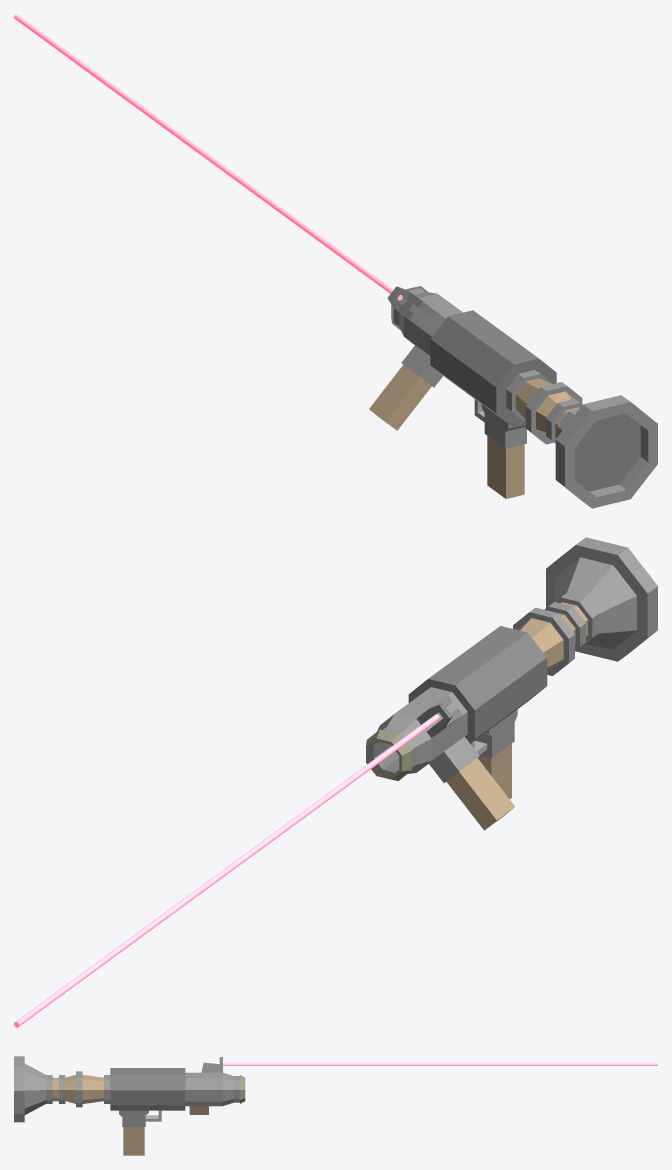
Rendered from launcher.glb.
3 views of the same model, one above another, from view 1: azimuth 30°, elevation 25°; view 2: azimuth 150°, elevation 25°; view 3: azimuth 270°, elevation 25° (orthographic). The views are drawn at different scales.
Parts seen in each view (by area): view 1: rocketlauncherSide, Laser Sight; view 2: rocketlauncherSide, Laser Sight; view 3: rocketlauncherSide, Laser Sight.
Boxes of the visible parts, x1,y1,x2,y2 form: rocketlauncherSide: (369,286,657,508); Laser Sight: (14,14,402,300); rocketlauncherSide: (366,537,657,830); Laser Sight: (14,714,439,1027); rocketlauncherSide: (14,1056,245,1155); Laser Sight: (223,1063,657,1065).
Bounding box in the file's own units: 0.1295 × 0.1692 × 1.08.
